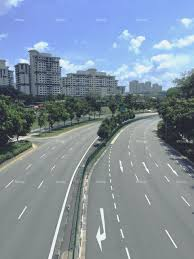strada: (1, 168, 194, 258)
